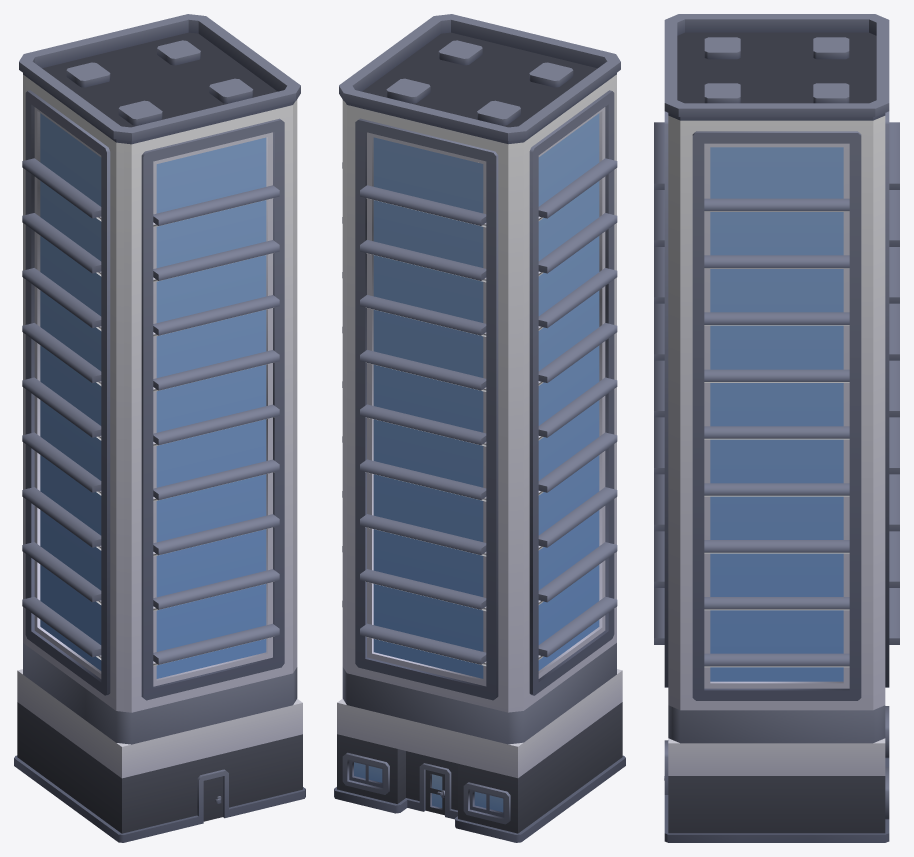
Rendered from deca-center.glb.
The picture shows the model from 3 angles, left to right: view 1: azimuth 30°, elevation 25°; view 2: azimuth 150°, elevation 25°; view 3: azimuth 270°, elevation 25°; orthographic projection. The views are drawn at different scales.
Parts seen in each view (by area): view 1: building-skyscraper-b; view 2: building-skyscraper-b; view 3: building-skyscraper-b.
Part boxes in pixels (left/top/right/bottom): building-skyscraper-b: left=14, top=14, right=305, bottom=842; building-skyscraper-b: left=334, top=14, right=625, bottom=842; building-skyscraper-b: left=654, top=14, right=899, bottom=842.
Size of the model in its own units: 1.36 by 4.48 by 1.36.
Materials: 1 (1 with a texture image).
